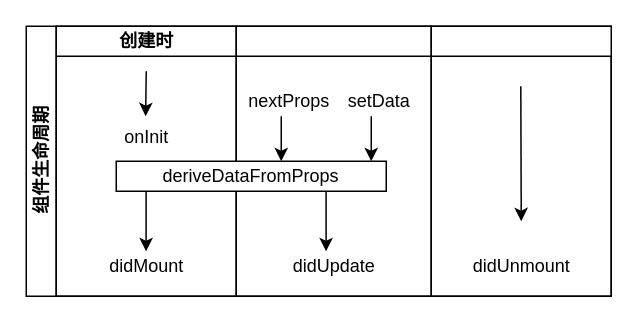
Some shapes in this 638 by 323 pixel diagram are drawn without their labels. The shapes that lost their labels are listed below. From the top down, each one's box as (x1, y1, x2, y2) in pixels, then its label:
(235, 25, 431, 296): 更新时
(430, 25, 611, 296): 删除时
